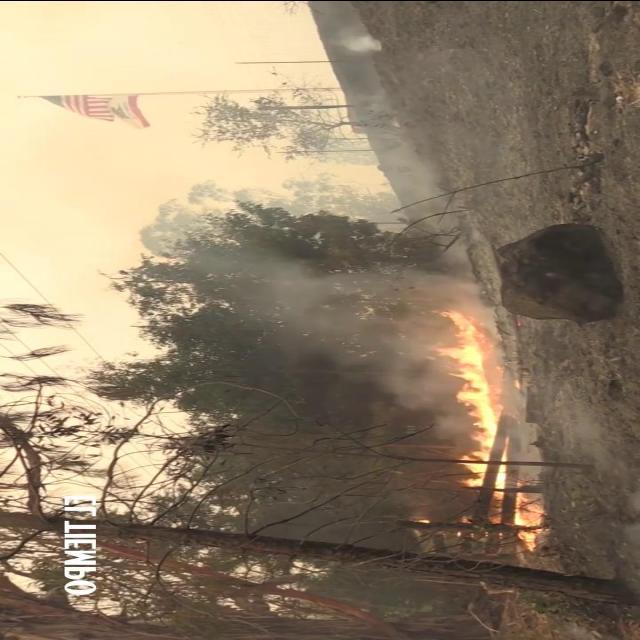Fire: (430, 306, 500, 498), (511, 498, 547, 551), (411, 516, 429, 524)
